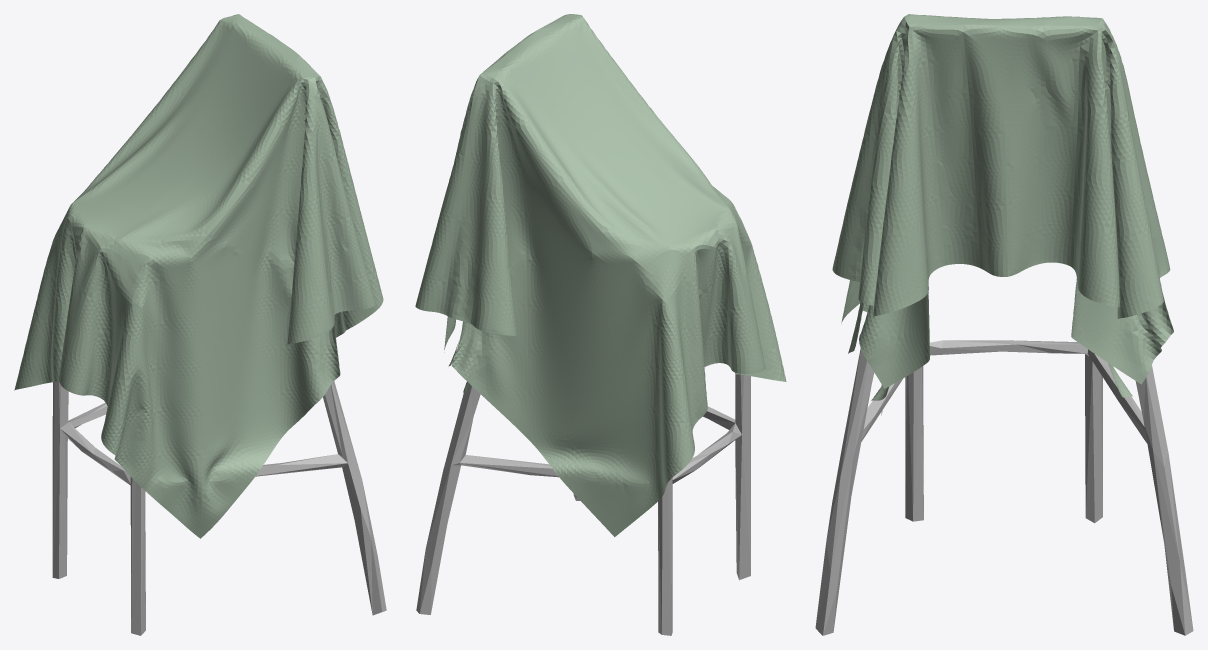
File: level_3.glb
The picture shows the model from 3 angles, left to right: view 1: azimuth 30°, elevation 25°; view 2: azimuth 150°, elevation 25°; view 3: azimuth 270°, elevation 25°; orthographic projection. The views are drawn at different scales.
Visible parts, largest first — view 1: world, object.obj; view 2: world, object.obj; view 3: world, object.obj.
Boxes of the visible parts, bbox=[...] form: world: bbox=[14, 14, 383, 538]; object.obj: bbox=[52, 381, 386, 635]; world: bbox=[415, 14, 786, 537]; object.obj: bbox=[416, 374, 750, 635]; world: bbox=[832, 14, 1173, 415]; object.obj: bbox=[815, 340, 1193, 635].
Size of the model in its own units: 0.2393 by 0.4239 by 0.2427.
